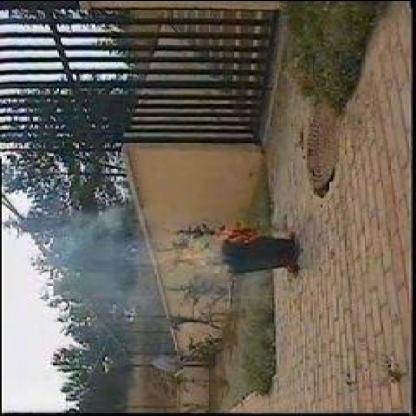-: (88, 238, 184, 281)
foggia-v2-map80-epoch100 - v1 4323: (216, 226, 258, 242)
